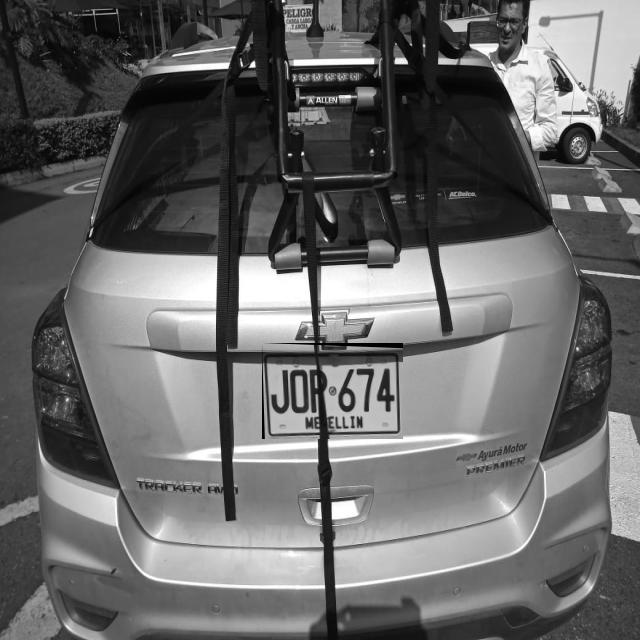plate: (263, 347, 403, 439)
